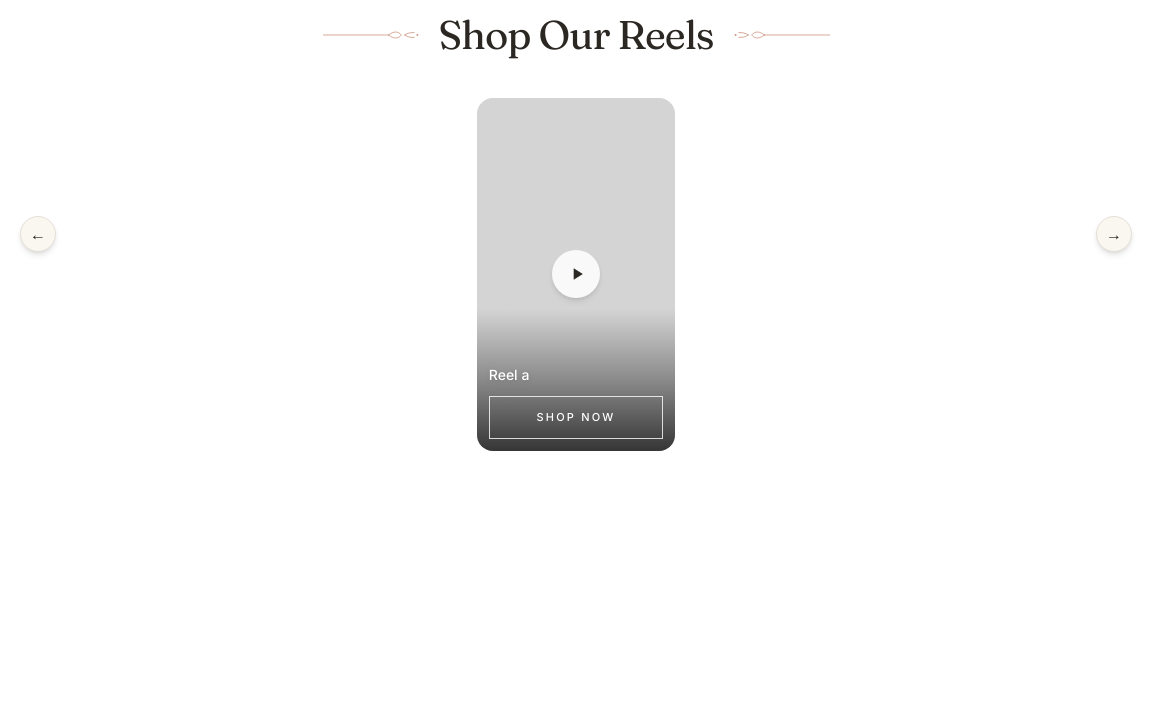
Test: ShoppableReels storefront › category plus product opens the tray with both, category labelled
Click the button "Shop Now" at (576, 417), box [489,396,663,439]
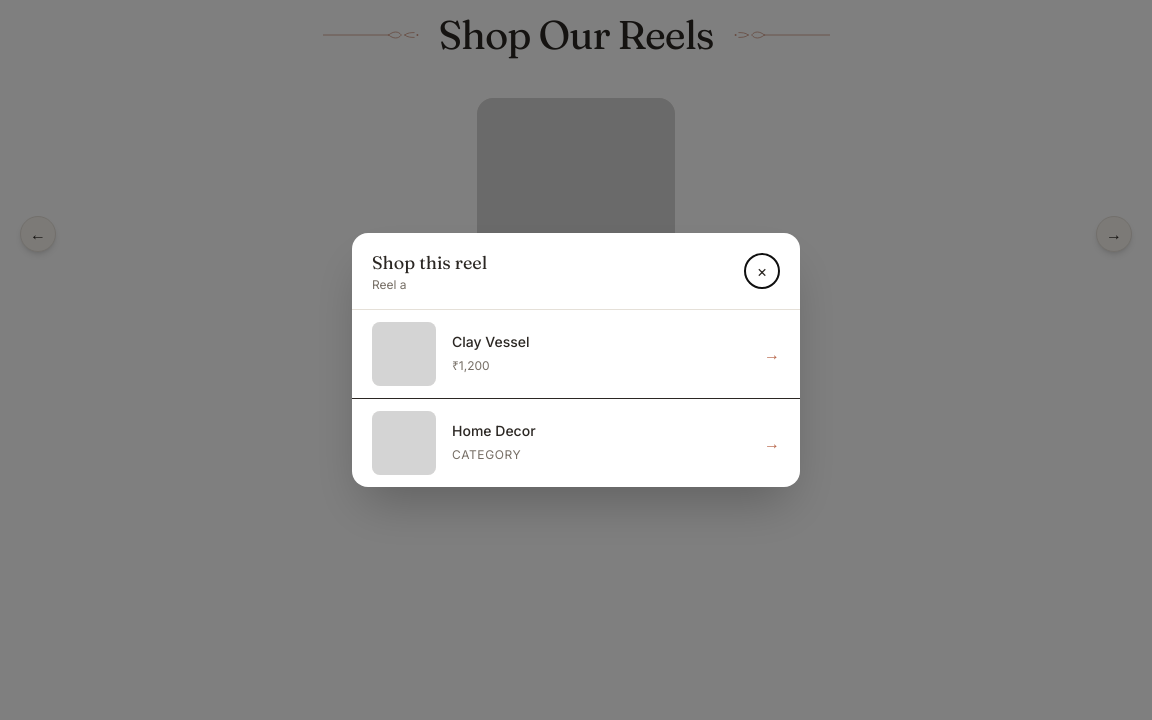
Result: the text "Category" is shown at [452,447,521,462]
